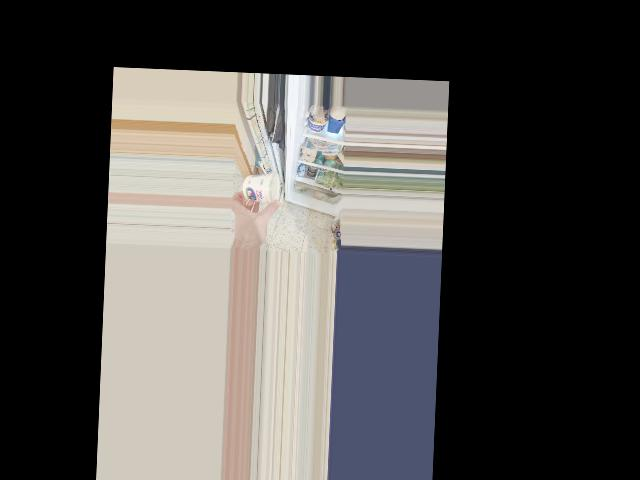cotage: (243, 174, 277, 206)
